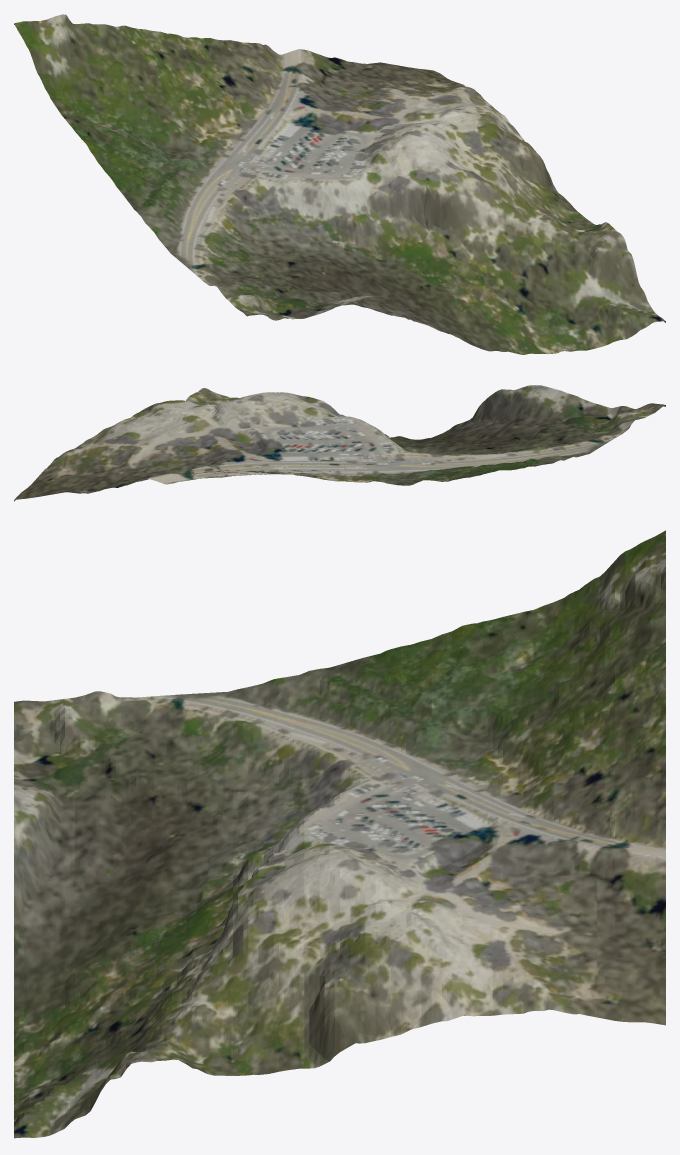
The picture shows the model from 3 angles, top to bottom: view 1: azimuth 30°, elevation 25°; view 2: azimuth 150°, elevation 25°; view 3: azimuth 270°, elevation 25°; orthographic projection. The views are drawn at different scales.
Bounding box in the file's own units: 250 × 138 × 241.
Materials: 1 (1 with a texture image).
